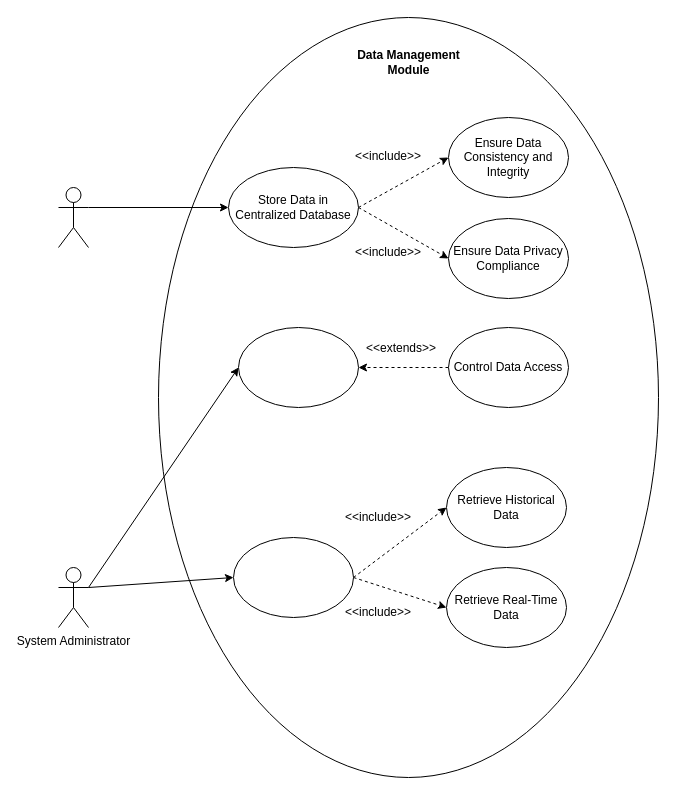
The diagram is 676 pixels wide and 795 high, and some of its shapes have lost their labels. The box of each missing label's shape, as (x1, y1, x2, y2) in pixels:
Backup Database: (238, 326, 358, 408)
Export Data: (232, 536, 354, 618)
System: (58, 186, 88, 248)
